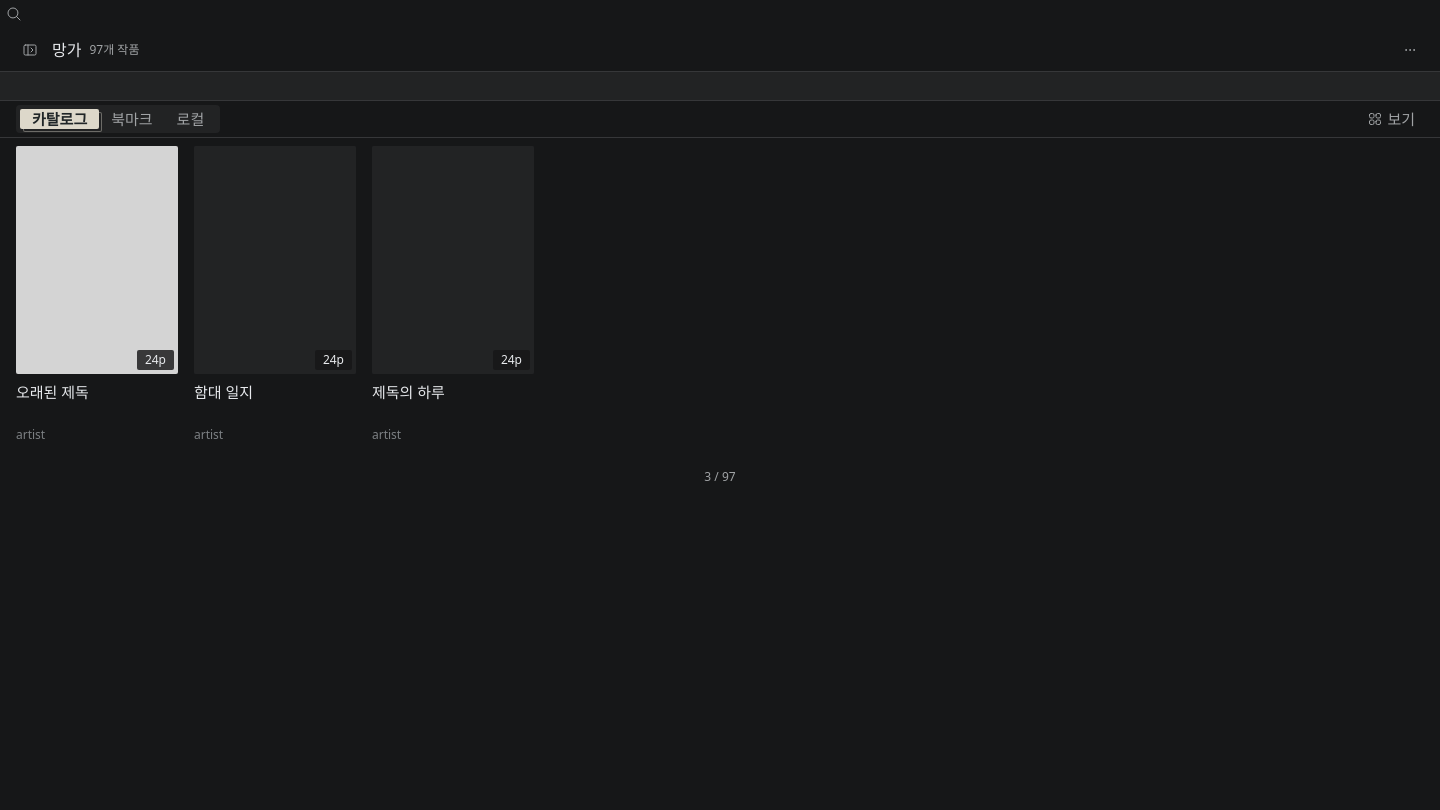
Test: OnlineCatalogBrowser › keeps rare catalog actions in one top-bar overflow menu
Check: the button "중복 후보 검토" is not shown
Click the button named "카탈로그 더보기" at (1410,50), box [1396,34,1424,66]
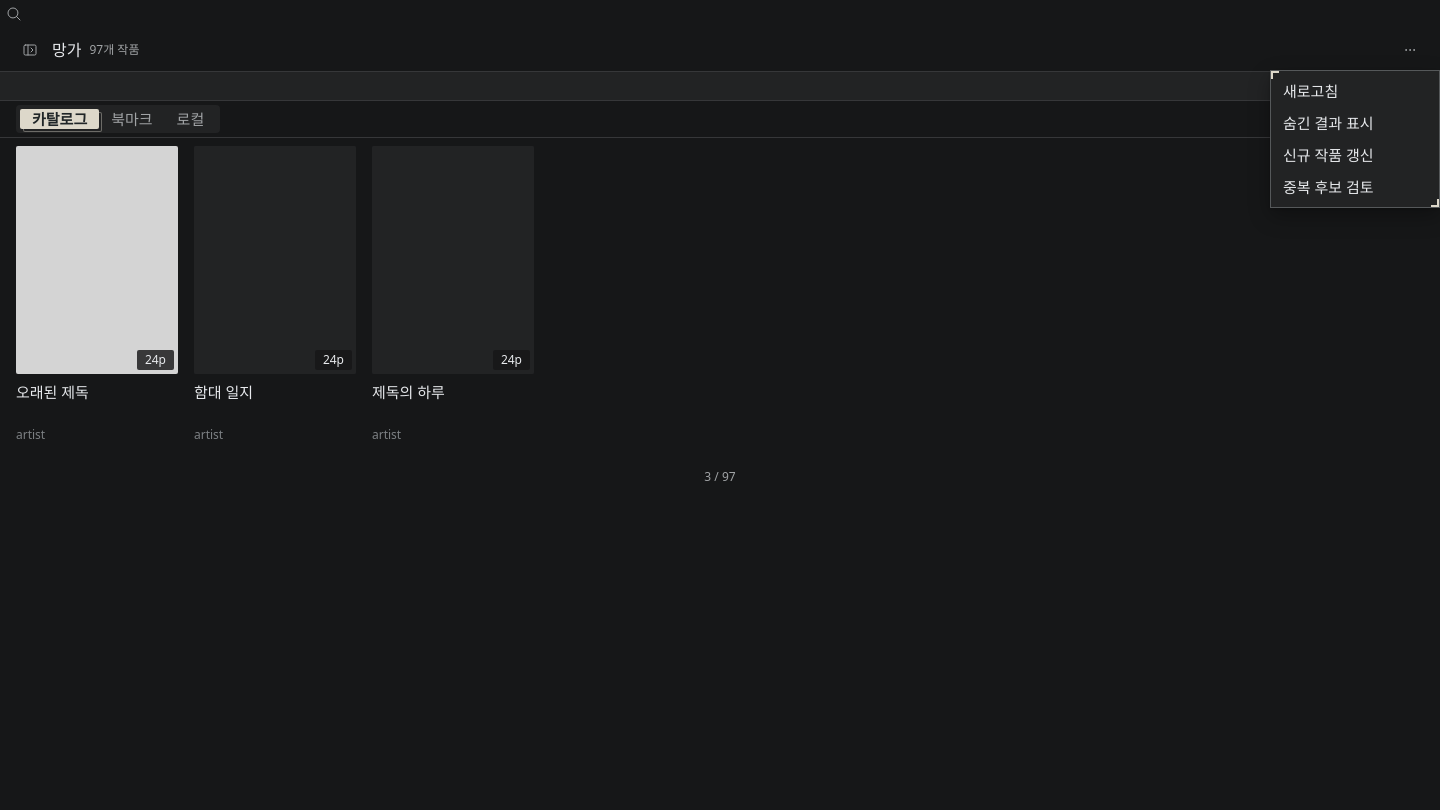
Check: the menu item "숨긴 결과 표시" is not checked, box [1283,113,1374,133]
Check: the menu item "새로고침" is enabled, box [1275,75,1435,107]
Check: the menu item "신규 작품 갱신" is enabled, box [1275,139,1435,171]
Click the menu item "중복 후보 검토" at (1355,187), box [1275,171,1435,203]
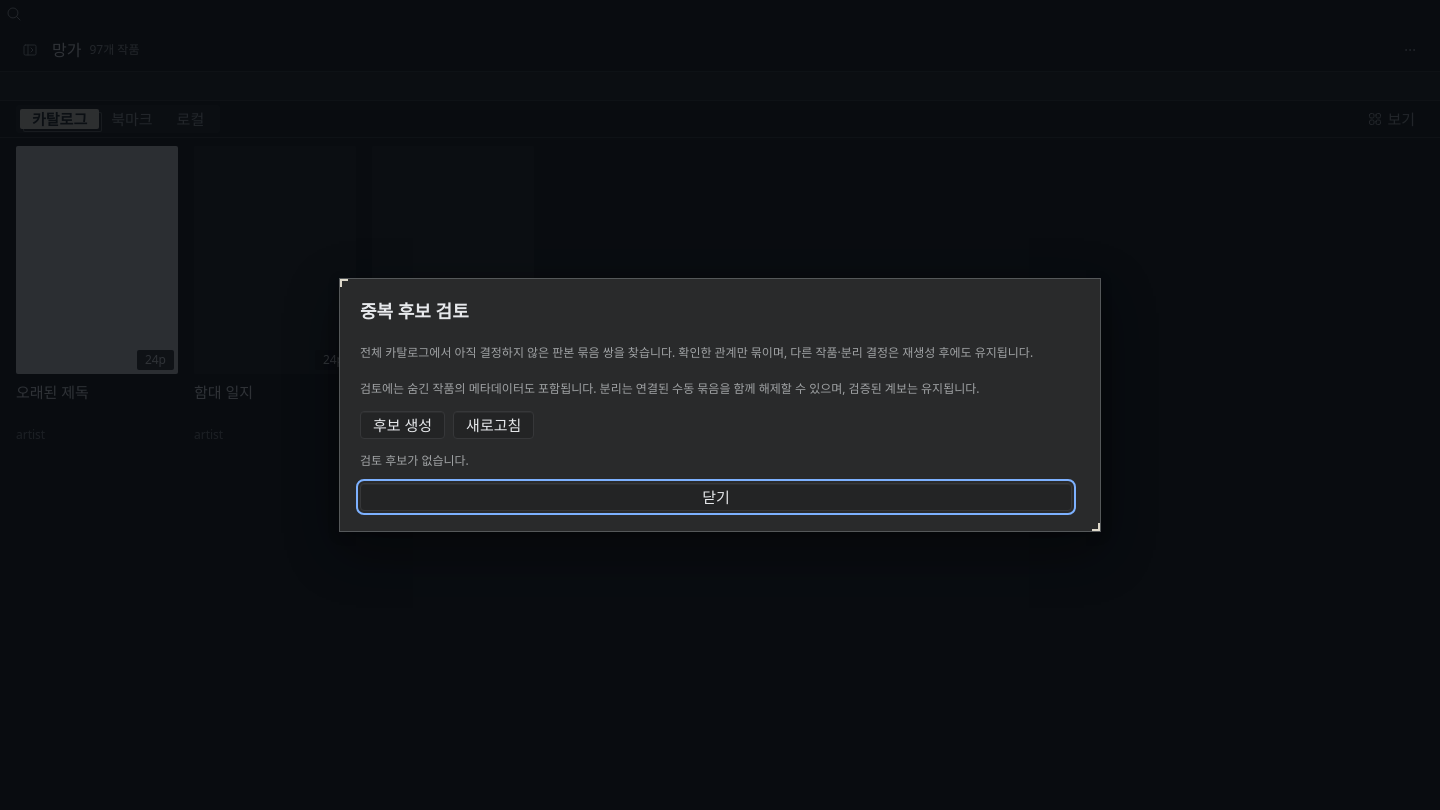
Check: the dialog "중복 후보 검토" is shown, box [339,278,1101,532]
